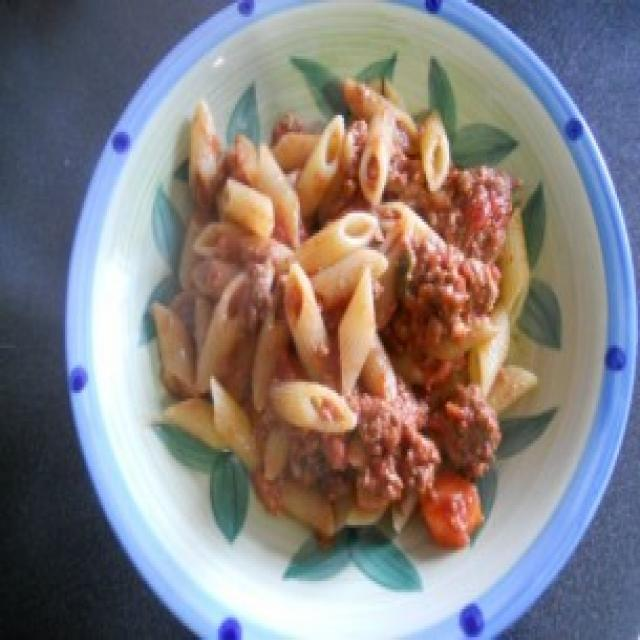Pasta al ragu: (147, 42, 561, 558)
